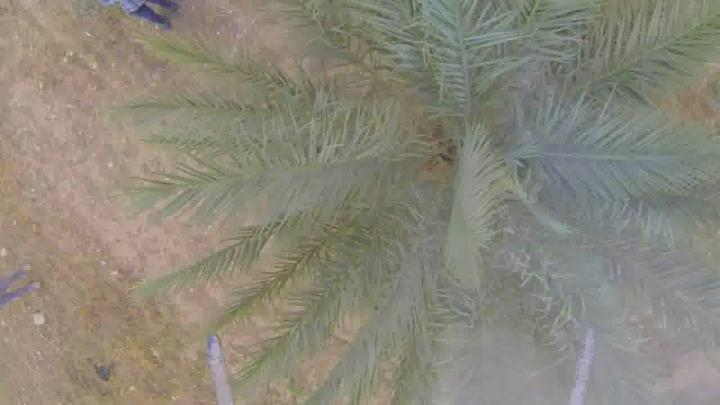Date-Palm-Crown: (248, 1, 654, 308)
